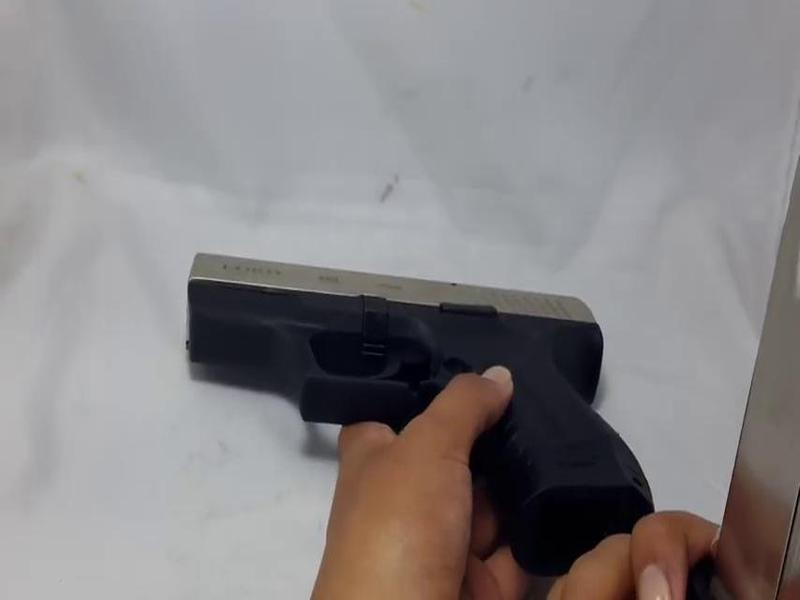Pistola: (174, 244, 651, 537)
